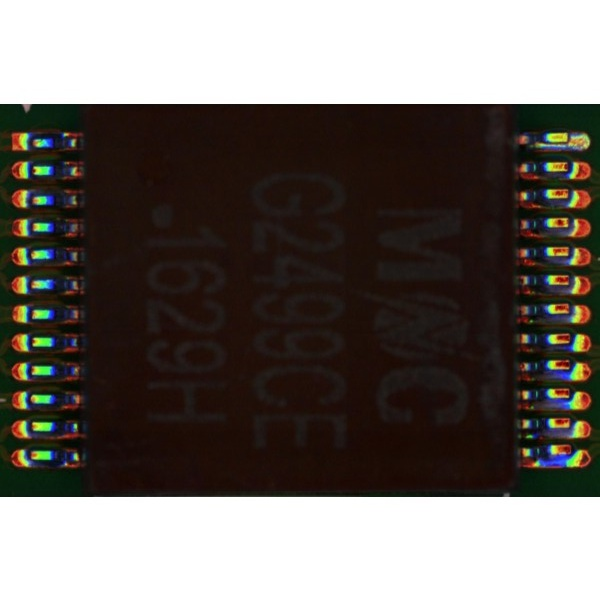Bad_podu: (564, 134, 578, 142)
Bad_qiaojiao: (530, 142, 566, 149)
